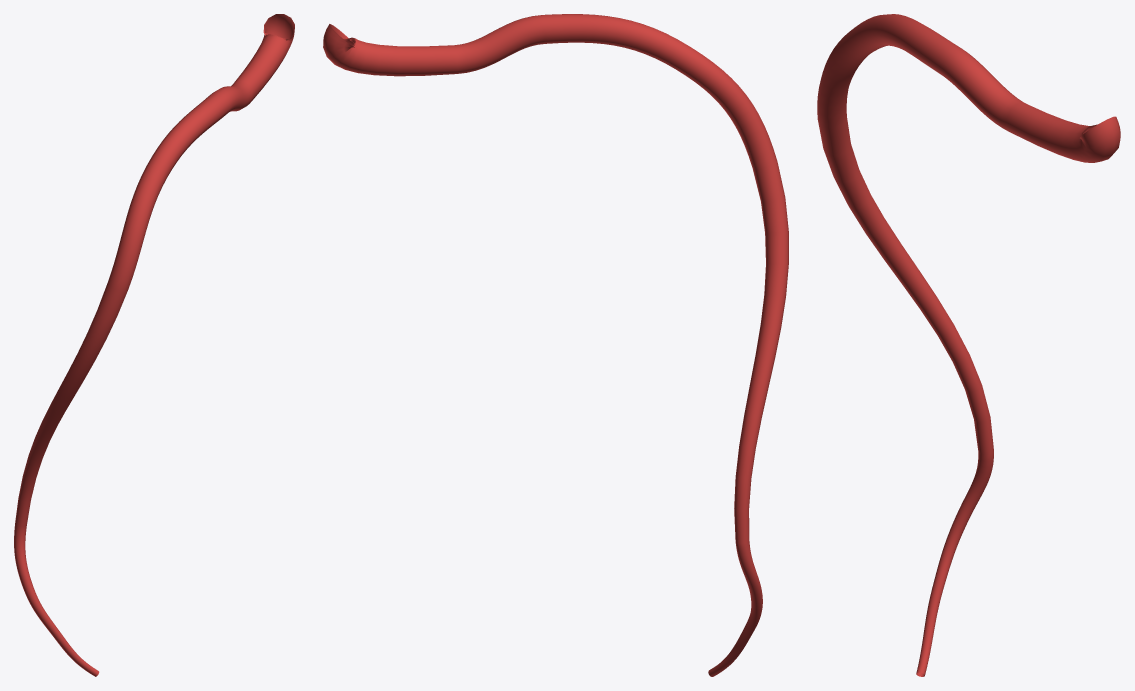
The picture shows the model from 3 angles, left to right: view 1: azimuth 30°, elevation 25°; view 2: azimuth 150°, elevation 25°; view 3: azimuth 270°, elevation 25°; orthographic projection. The views are drawn at different scales.
Parts seen in each view (by area): view 1: 右侧膝下外侧动脉; view 2: 右侧膝下外侧动脉; view 3: 右侧膝下外侧动脉.
Part boxes in pixels (left/top/right/bottom): 右侧膝下外侧动脉: left=14, top=14, right=294, bottom=676; 右侧膝下外侧动脉: left=323, top=14, right=788, bottom=676; 右侧膝下外侧动脉: left=817, top=14, right=1120, bottom=676.
Bounding box in the file's own units: 0.0645 × 0.1044 × 0.0396.
